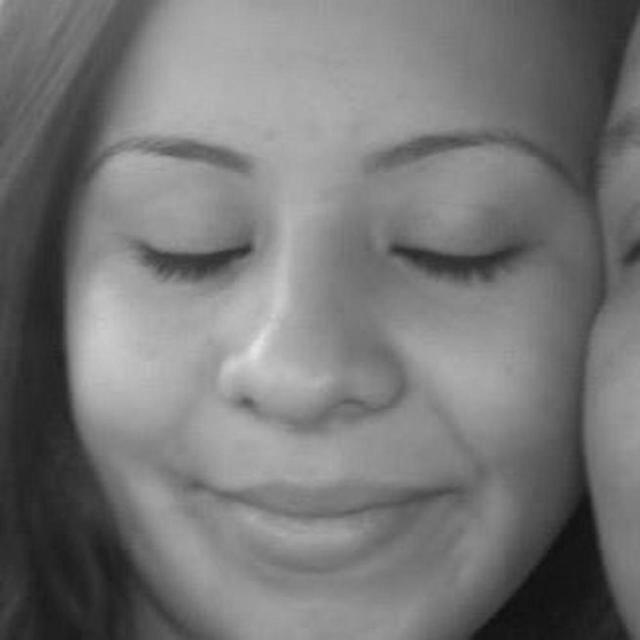real: (57, 0, 610, 640), (118, 178, 568, 312)
